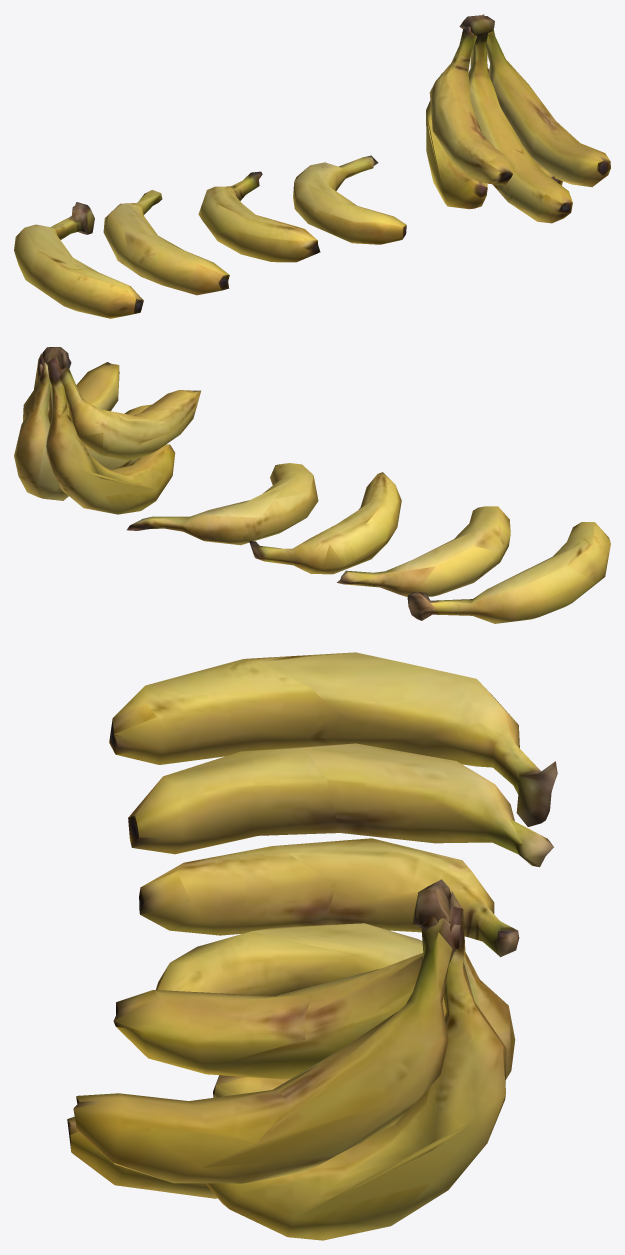
The model's file is bananas.glb.
3 views of the same model, one above another, from view 1: azimuth 30°, elevation 25°; view 2: azimuth 150°, elevation 25°; view 3: azimuth 270°, elevation 25° (orthographic). The views are drawn at different scales.
Parts seen in each view (by area): view 1: bananas; view 2: bananas; view 3: bananas.
Part boxes in pixels (left/top/right/bottom): bananas: left=14, top=14, right=610, bottom=318; bananas: left=14, top=347, right=610, bottom=623; bananas: left=67, top=652, right=557, bottom=1240.
Bounding box in the file's own units: 0.5995 × 0.1787 × 0.2437.
1 material, 1 textured.
